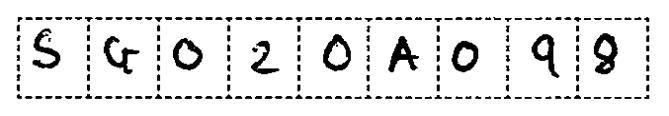0: (318, 29, 356, 76), (447, 36, 487, 80), (168, 35, 210, 76)
2: (246, 35, 282, 81)
8: (590, 30, 620, 82)
9: (525, 31, 567, 81)
A: (383, 33, 422, 79)
G: (99, 31, 145, 80)
S: (28, 25, 66, 72)
